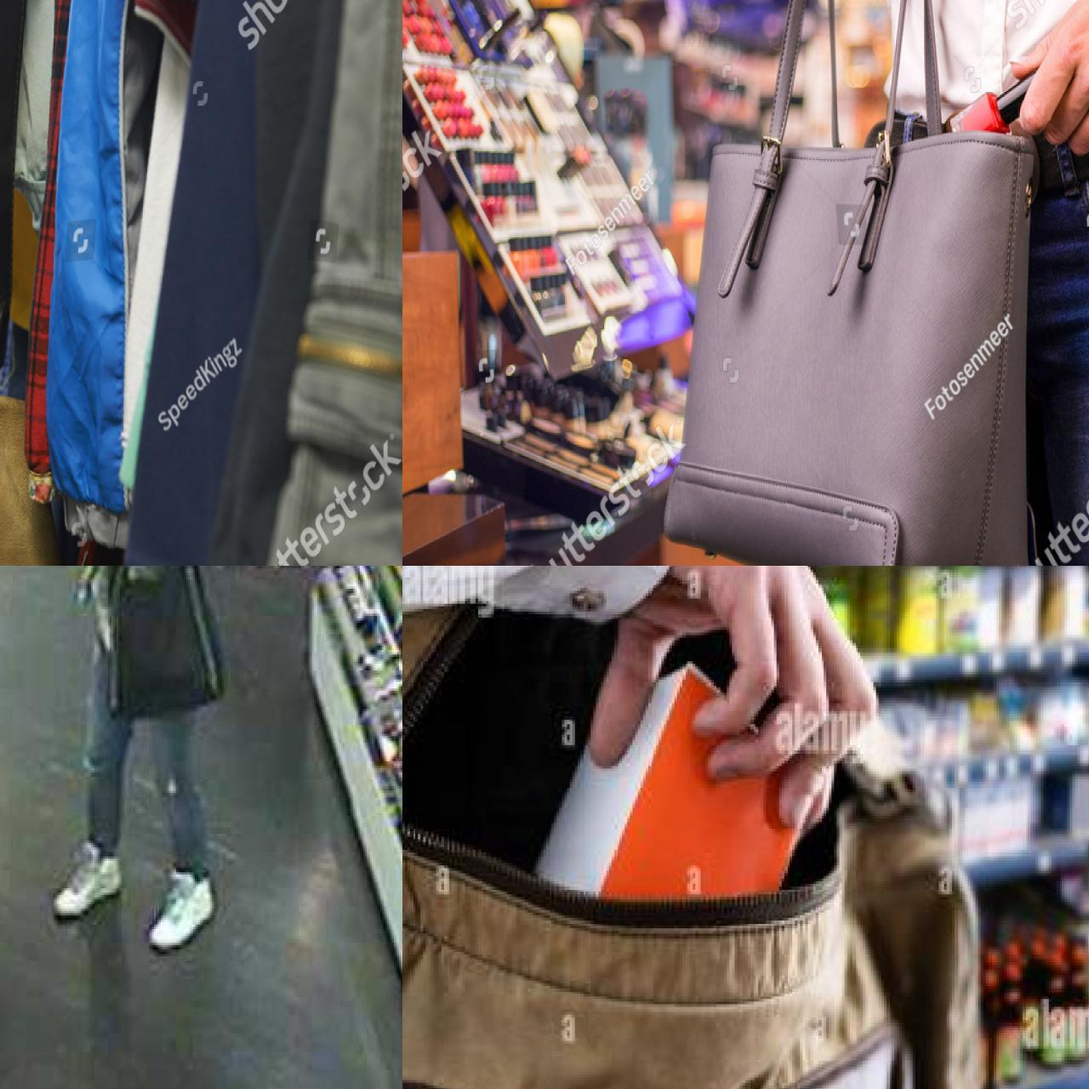shoplifting: (411, 566, 1022, 1089)
